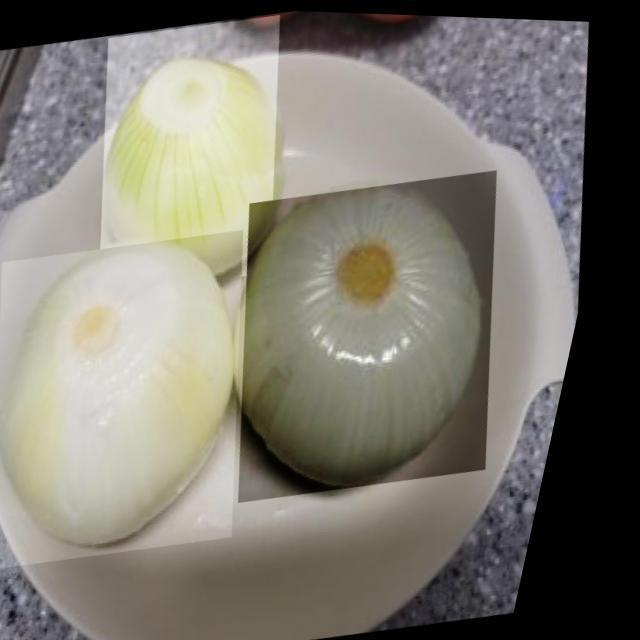Onion: (207, 159, 556, 506), (0, 222, 306, 576), (66, 7, 326, 299)
